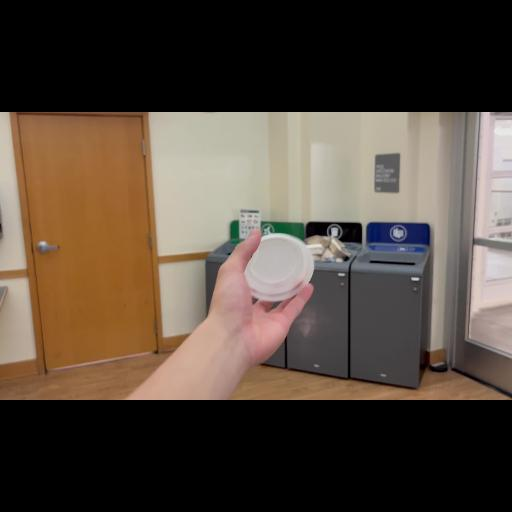lp_cup_lids: (231, 230, 317, 304)
